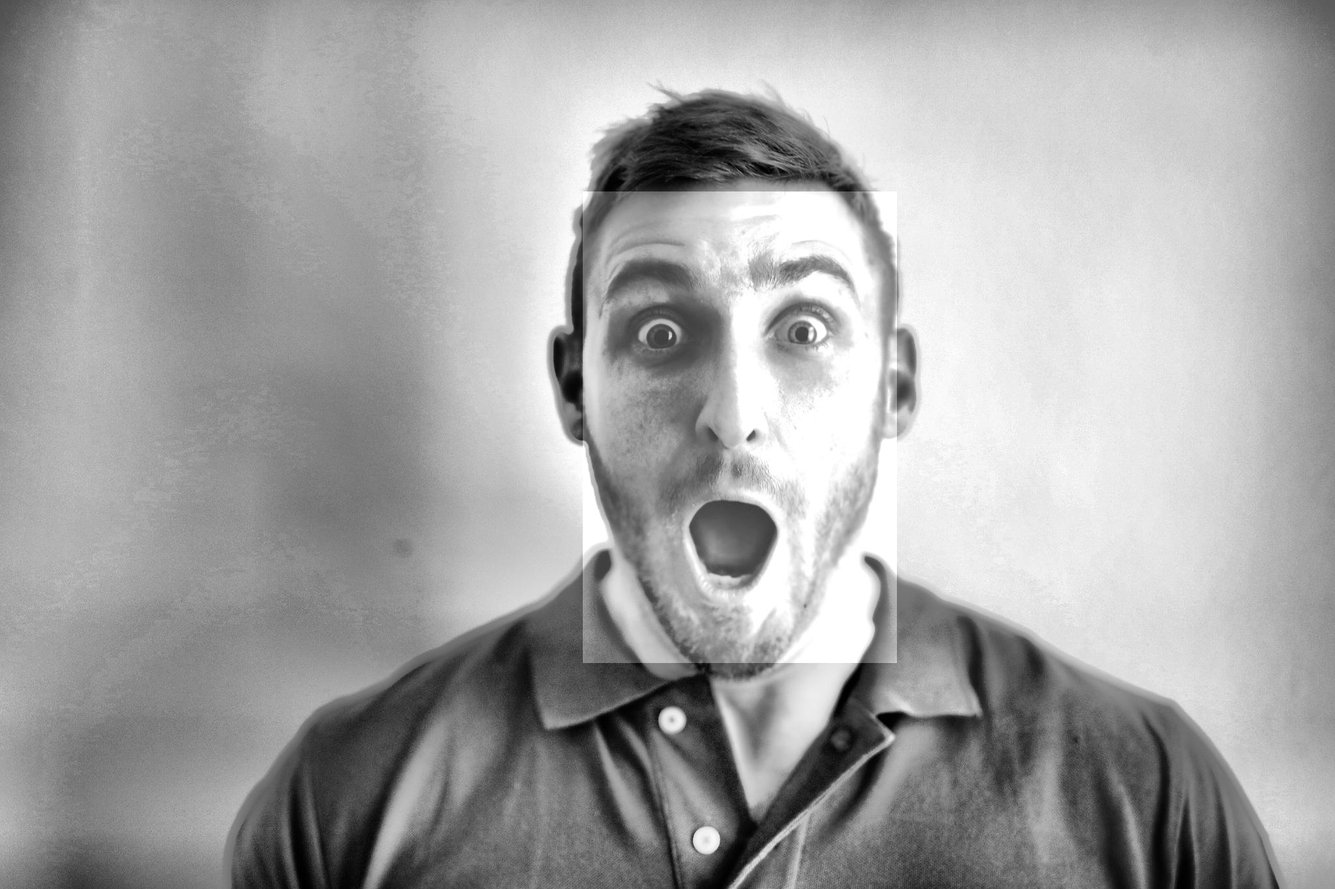surprised: (583, 191, 897, 663)
